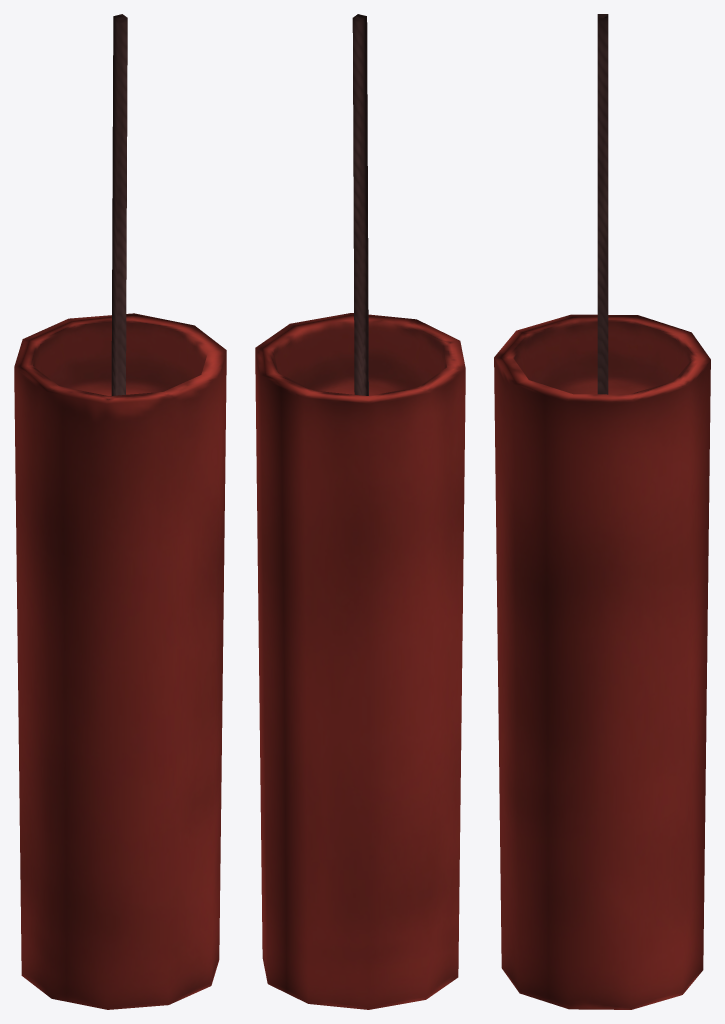
Rendered from item_Dynamite.fbx.
The picture shows the model from 3 angles, left to right: view 1: azimuth 30°, elevation 25°; view 2: azimuth 150°, elevation 25°; view 3: azimuth 270°, elevation 25°; orthographic projection.
Visible parts, largest first — view 1: body, igniteString; view 2: body, igniteString; view 3: body, igniteString.
Part boxes in pixels (bbox=[...]): body: bbox=[14, 313, 226, 1009]; igniteString: bbox=[111, 14, 127, 395]; body: bbox=[255, 313, 465, 1009]; igniteString: bbox=[352, 14, 368, 395]; body: bbox=[494, 314, 710, 1009]; igniteString: bbox=[597, 14, 608, 394].
Bounding box in the file's own units: 6.19 × 31.34 × 6.46.
